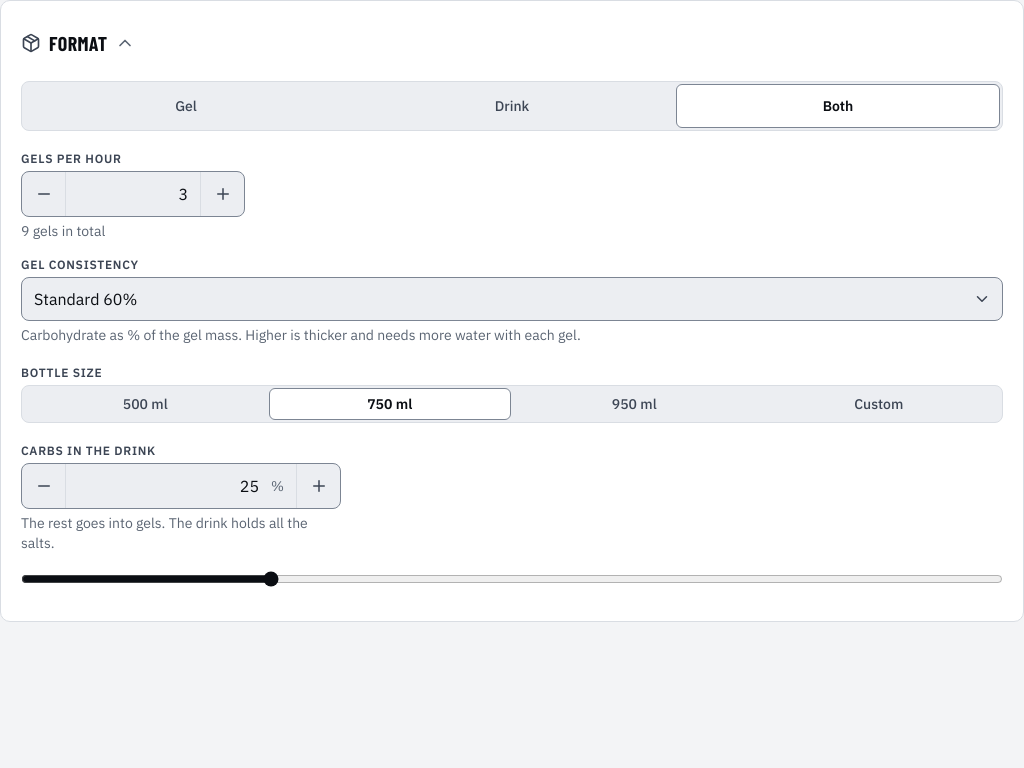
Scenario: FormatSection: layout › summarises {"format":{"type":"both","drinkCarbSharePct":25}}
Click the button "Format": (78, 43) [17,21,140,65]
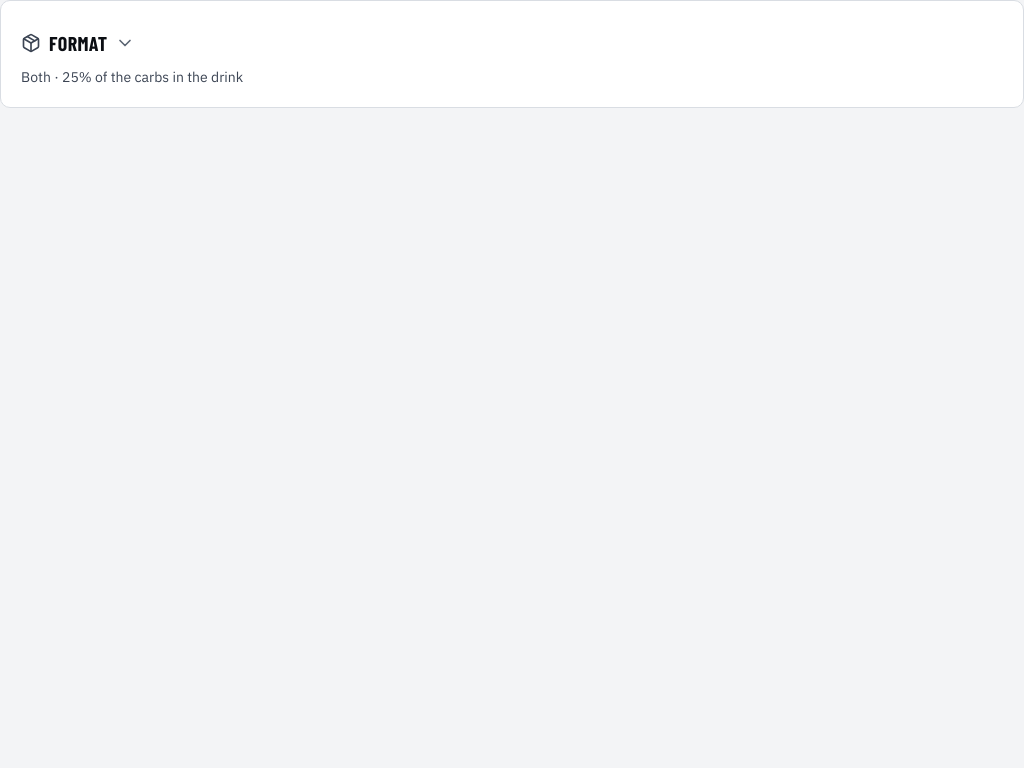
Expected: the text "Both · 25% of the carbs in the drink" is shown, [21,68,243,86]
